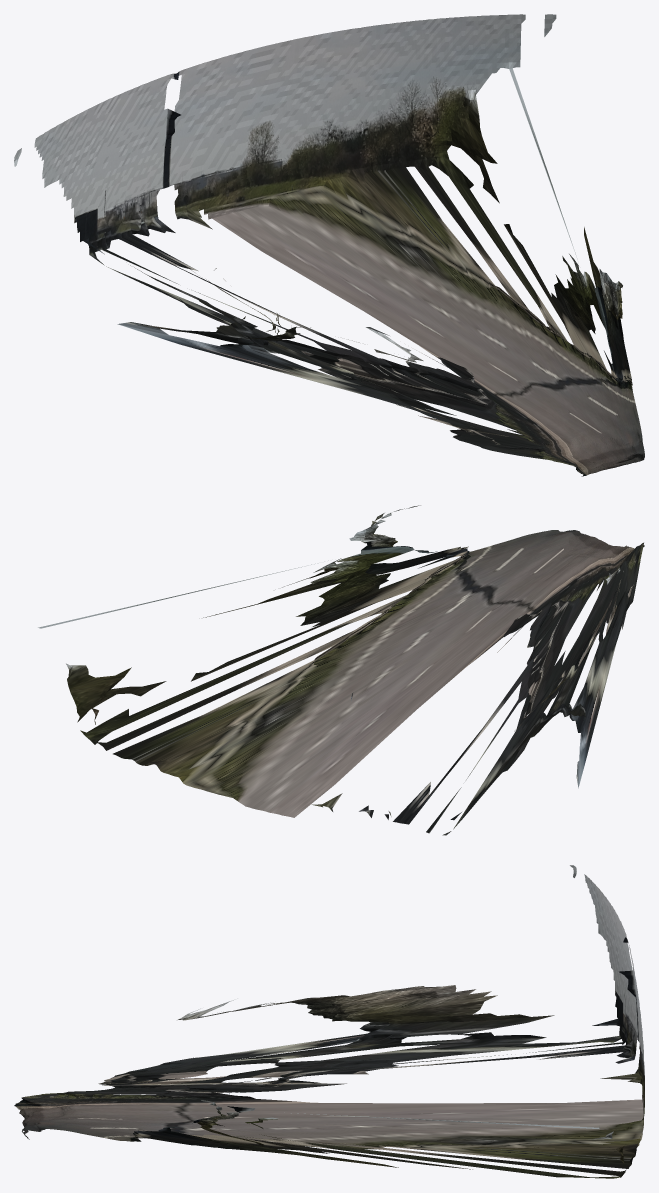
The picture shows the model from 3 angles, top to bottom: view 1: azimuth 30°, elevation 25°; view 2: azimuth 150°, elevation 25°; view 3: azimuth 270°, elevation 25°; orthographic projection. The views are drawn at different scales.
Visible parts, largest first — view 1: defaultobject; view 2: defaultobject; view 3: defaultobject.
Part boxes in pixels (x1,y1,x2,y2): defaultobject: (14,14,644,476); defaultobject: (38,505,644,835); defaultobject: (14,865,644,1178).
Bounding box in the file's own units: 39.31 × 12.2 × 44.84.
Materials: 1 (1 with a texture image).
